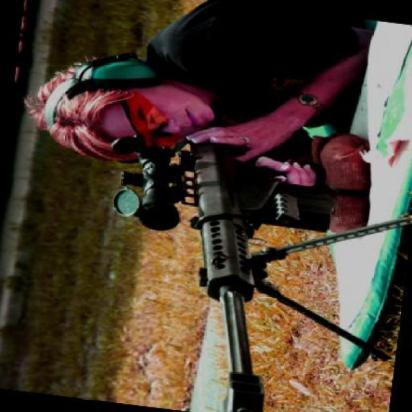Gun: (111, 109, 397, 412)
